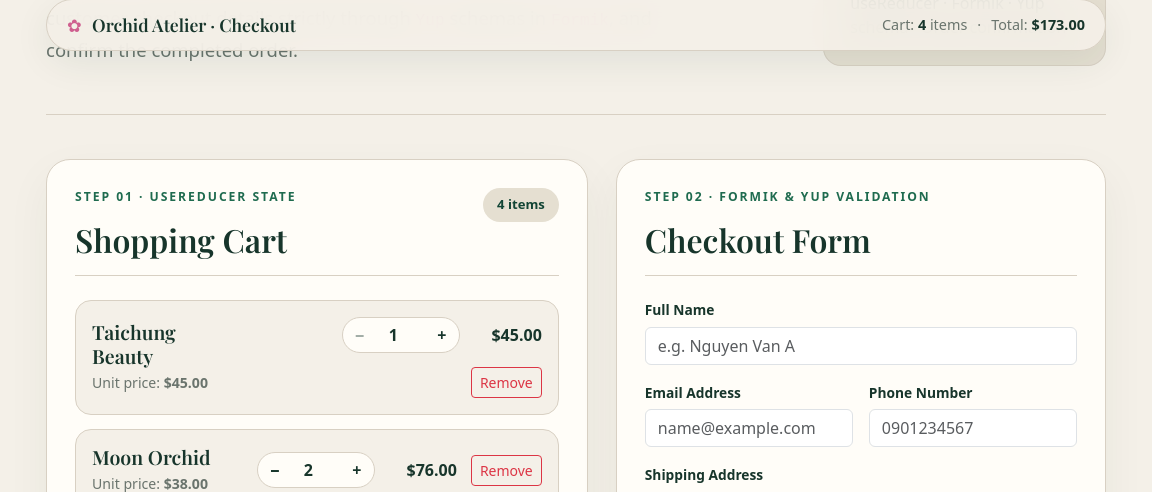
Test: Lab 4 cartReducer & checkout workflow › validates checkout fields using Yup and displays validation errors
(page scrolled)
// Type invalid short name, invalid email, invalid phone
Type "Ab" into the field labelled "Full Name".
click(861, 346); type("Ab")  # box [645,327,1077,365]
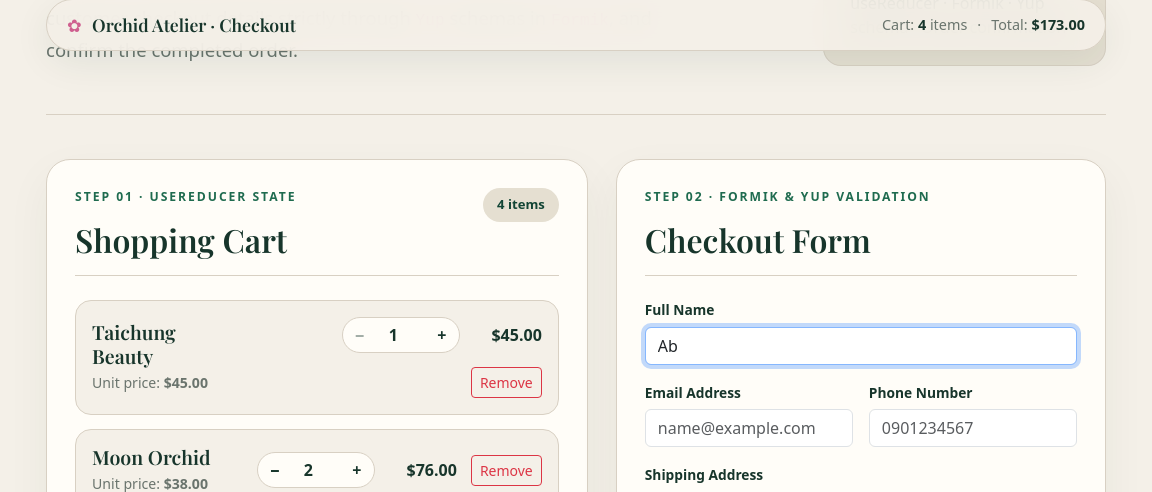
Type "invalid-email" into the field labelled "Email Address".
click(749, 428); type("invalid-email")  # box [645,409,853,447]
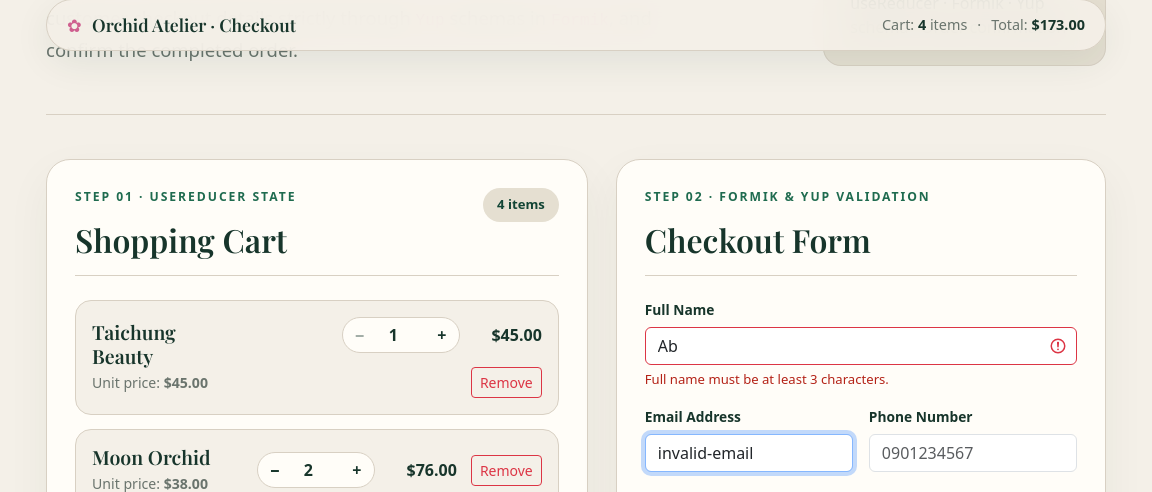
Type "12345" into the field labelled "Phone Number".
click(973, 453); type("12345")  # box [869,434,1077,472]
(page scrolled)
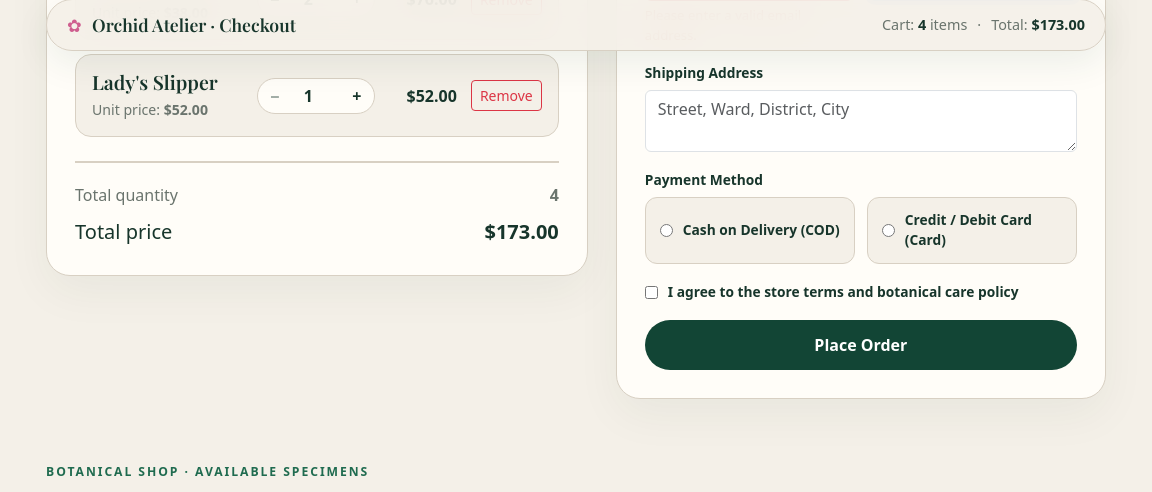
Click the button "Place Order".
click(861, 346)  # box [645,320,1077,370]
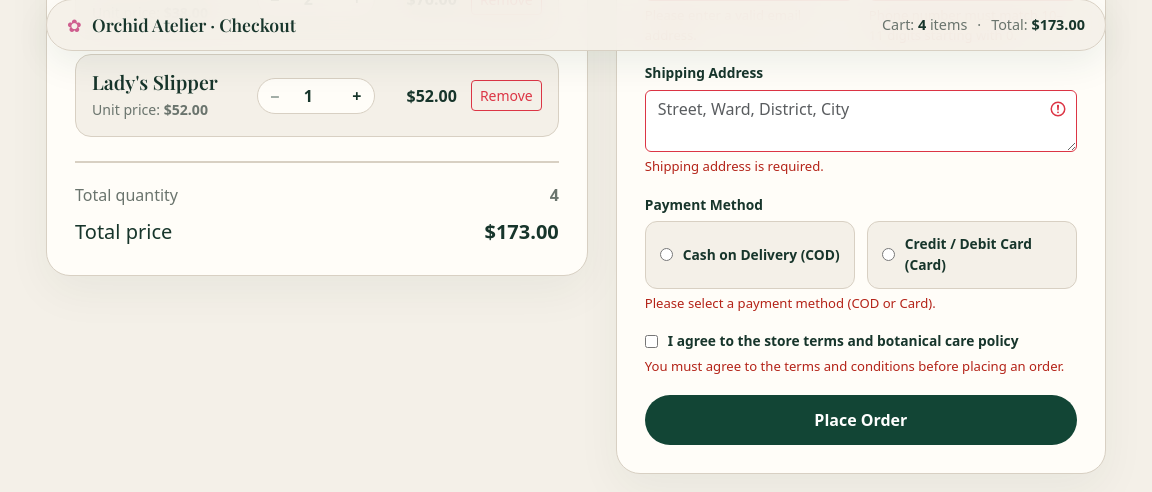
Now the text "Shipping address is required." is shown, box [645,157,824,175]
Now the text "Please select a payment method (COD or Card)." is shown, box [645,294,936,312]
Now the text "You must agree to the terms and conditions" is shown, box [645,357,1064,375]
